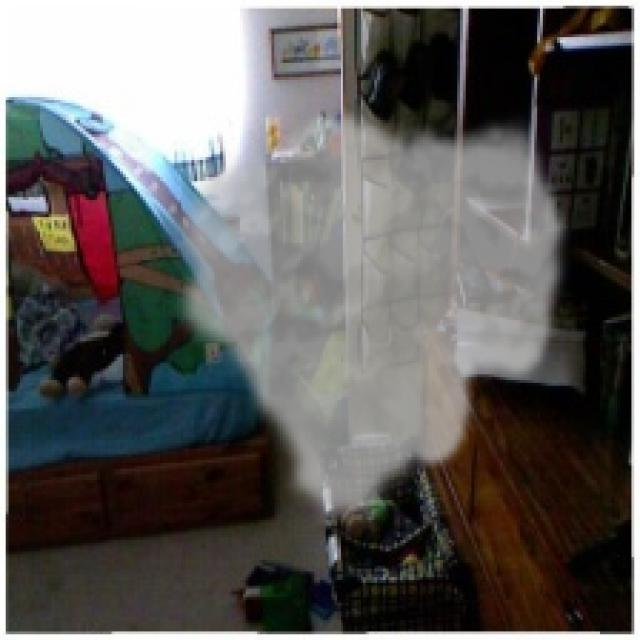smoke: (166, 106, 574, 528)
